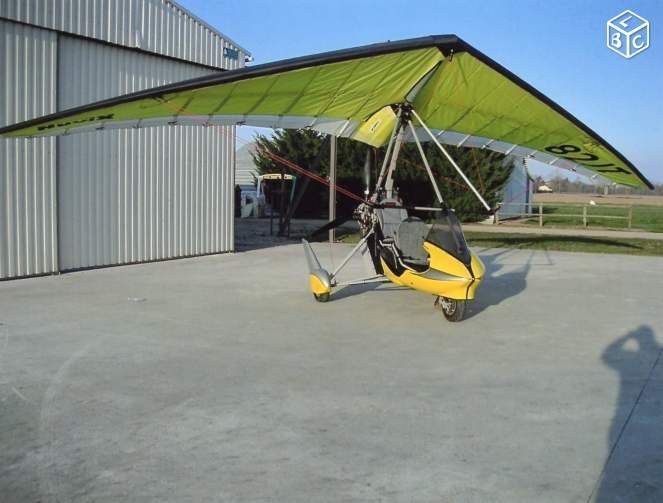Aeronef_de_loisir: (2, 20, 658, 327)
